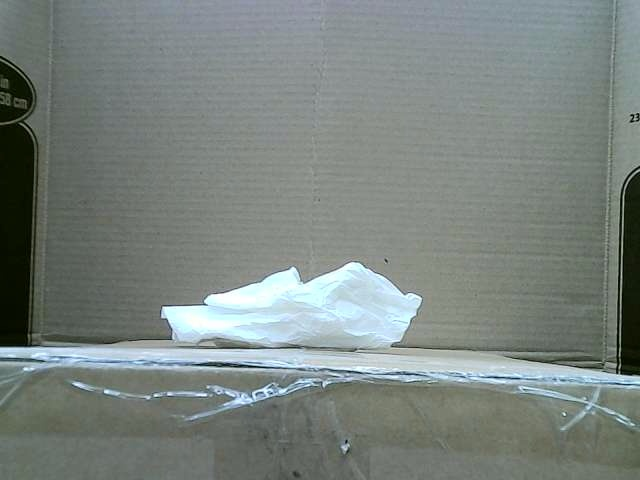Tissue: (160, 261, 422, 349)
